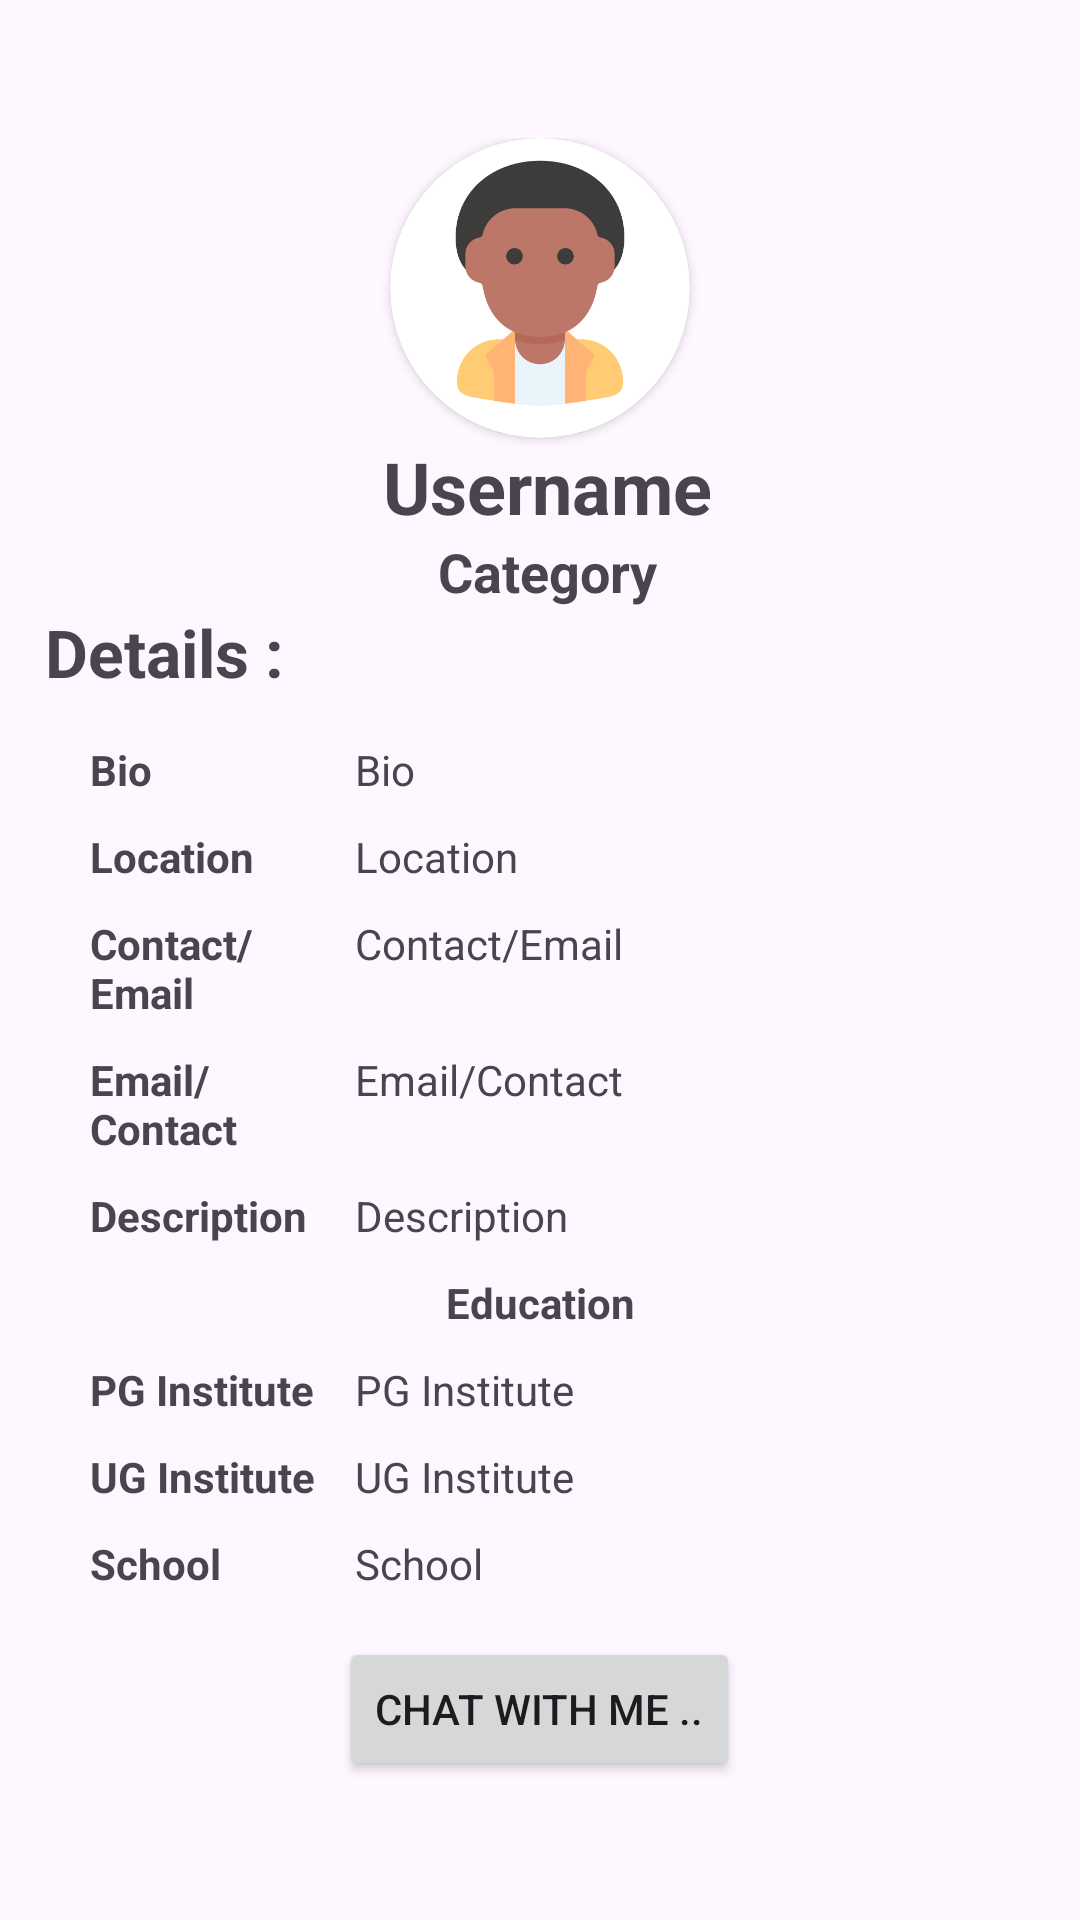

Locate icon controls on the screen. Image size 1080px×1920px, boxes as [x1, y1, x2, y2].
Profile: [390, 138, 690, 438]
